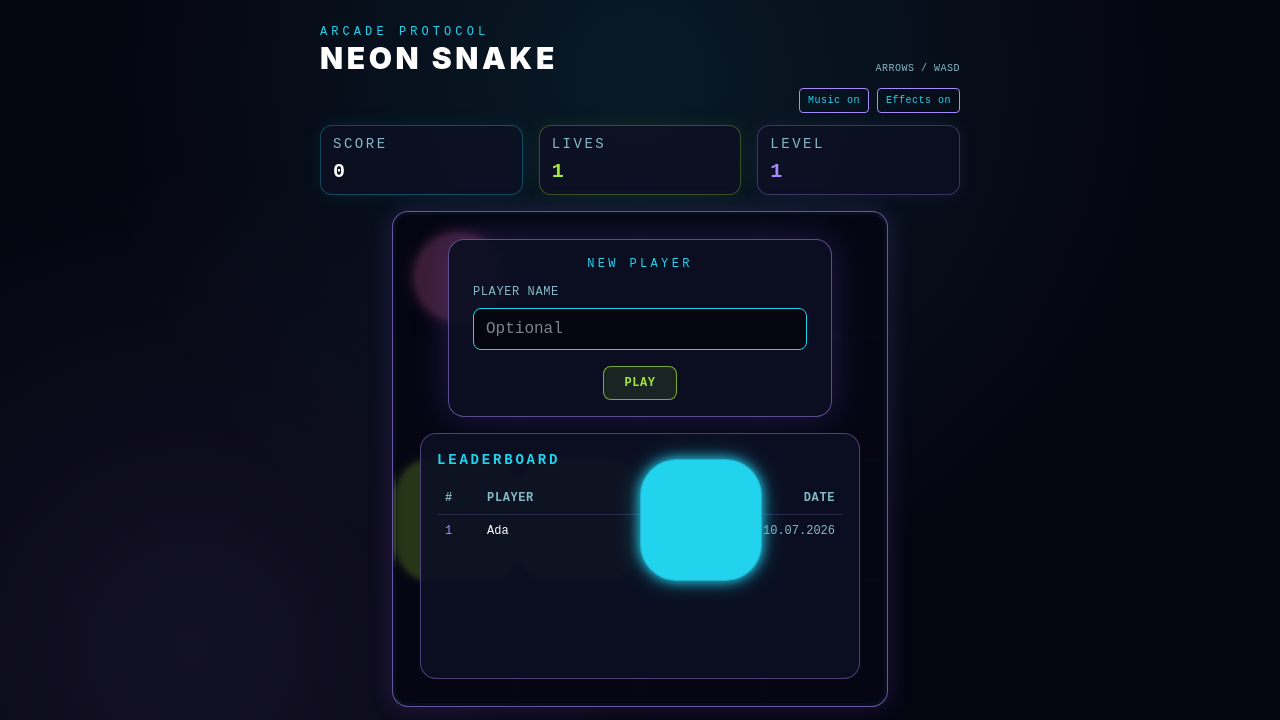
Test case: Game › render › marks only the newly retained tied result until the next run
This screenshot has width=1280, height=720.
In the field labelled "Player name": point(640, 329) [473,308,807,350], type "Ada"
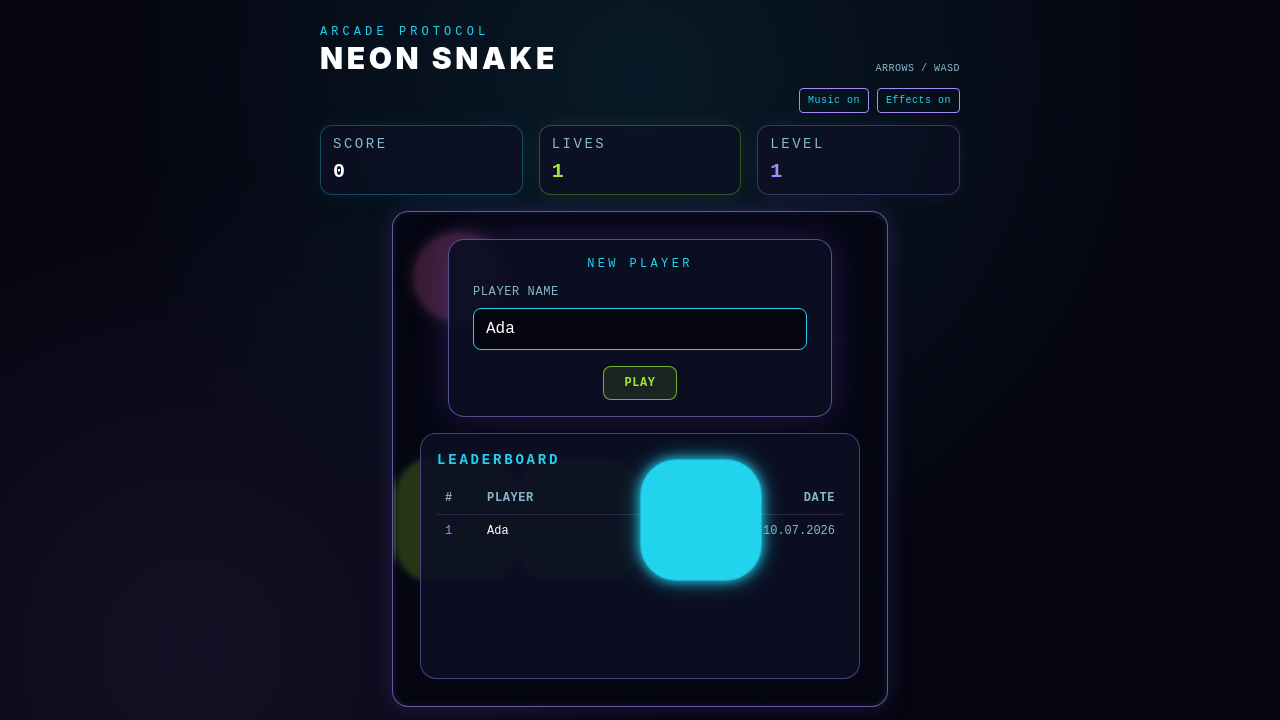
Click the button "Play": point(640, 383) [603,366,677,400]
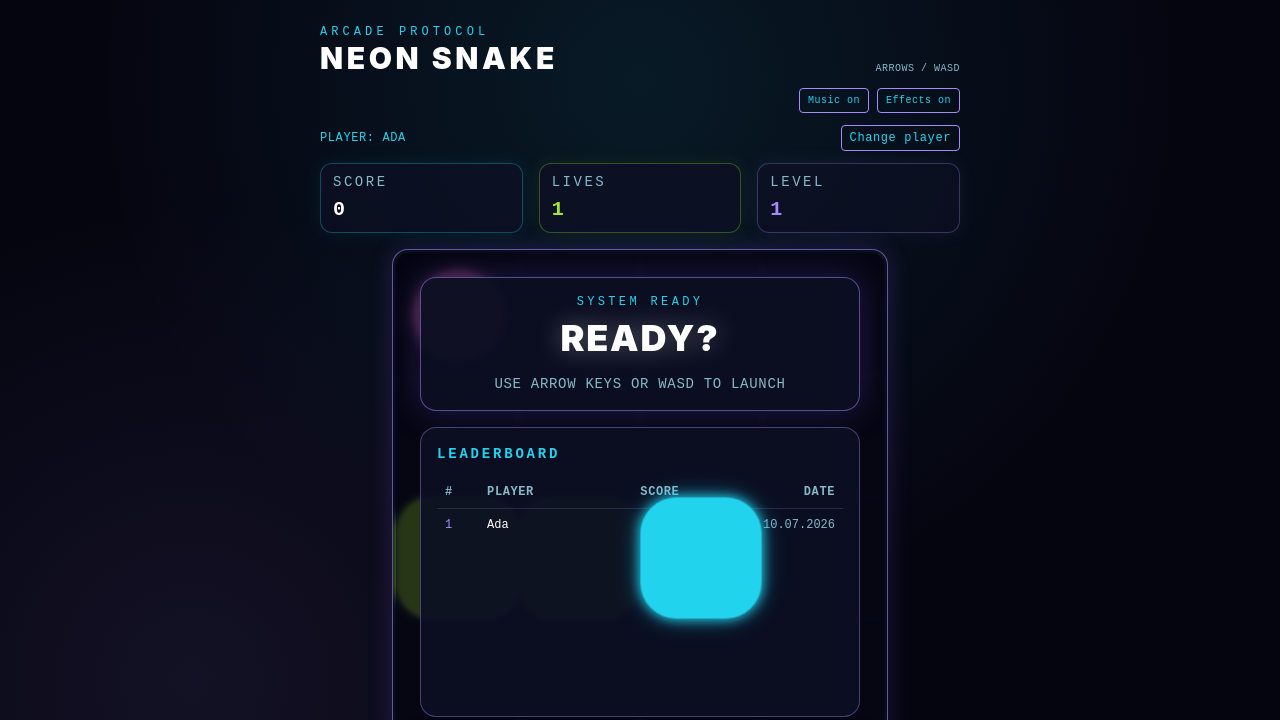
Press ArrowRight
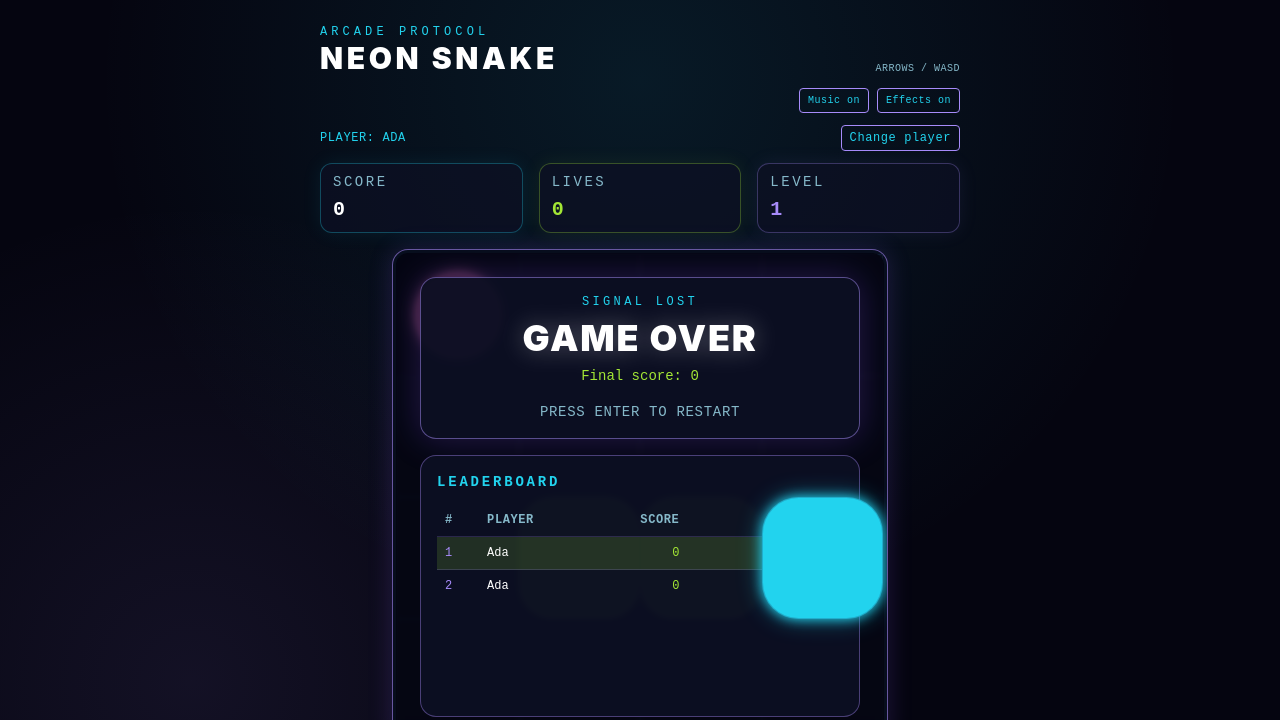
Now the text "11.07.2026" is shown, box [763,546,835,560]
Press Enter
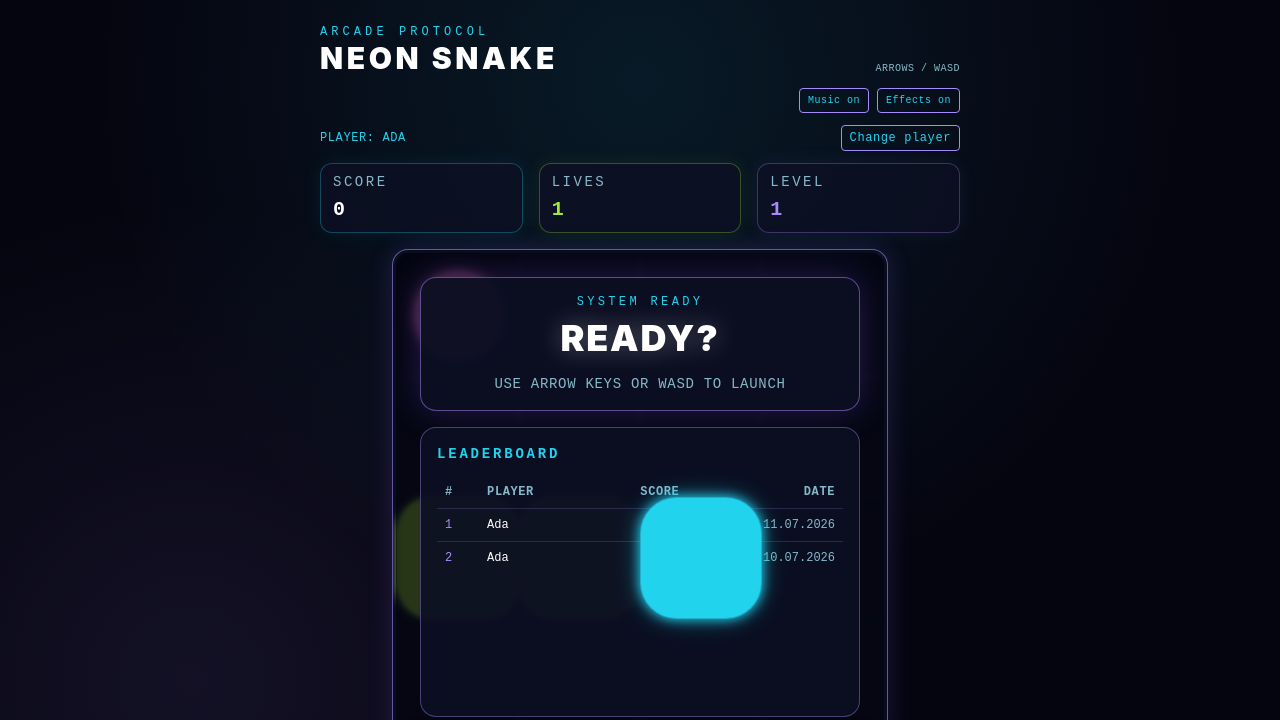
Now the heading "Ready?" is shown, box [560,316,720,360]
